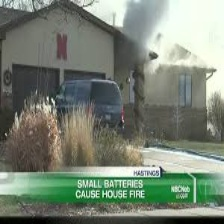smoke: (118, 1, 167, 65)
